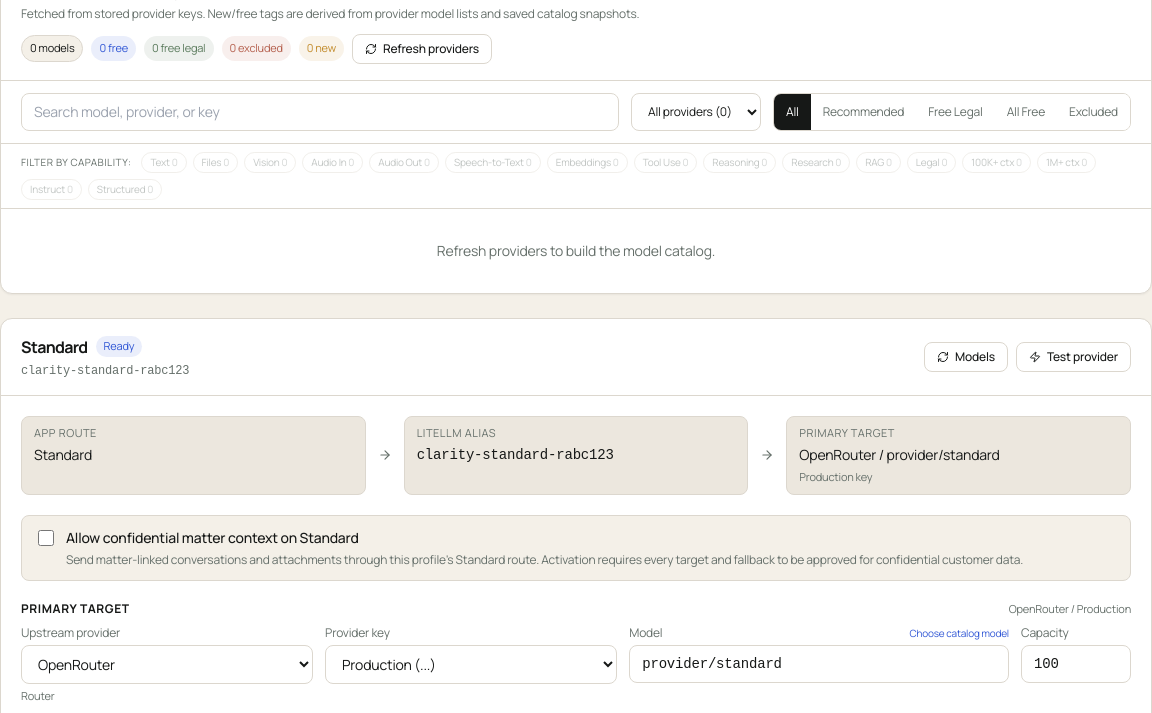
Scenario: platform AI routing › shows redacted provider credential evidence from a canary
(page scrolled)
Click the button "Test provider".
click(1073, 356)  # box [1016,342,1131,372]
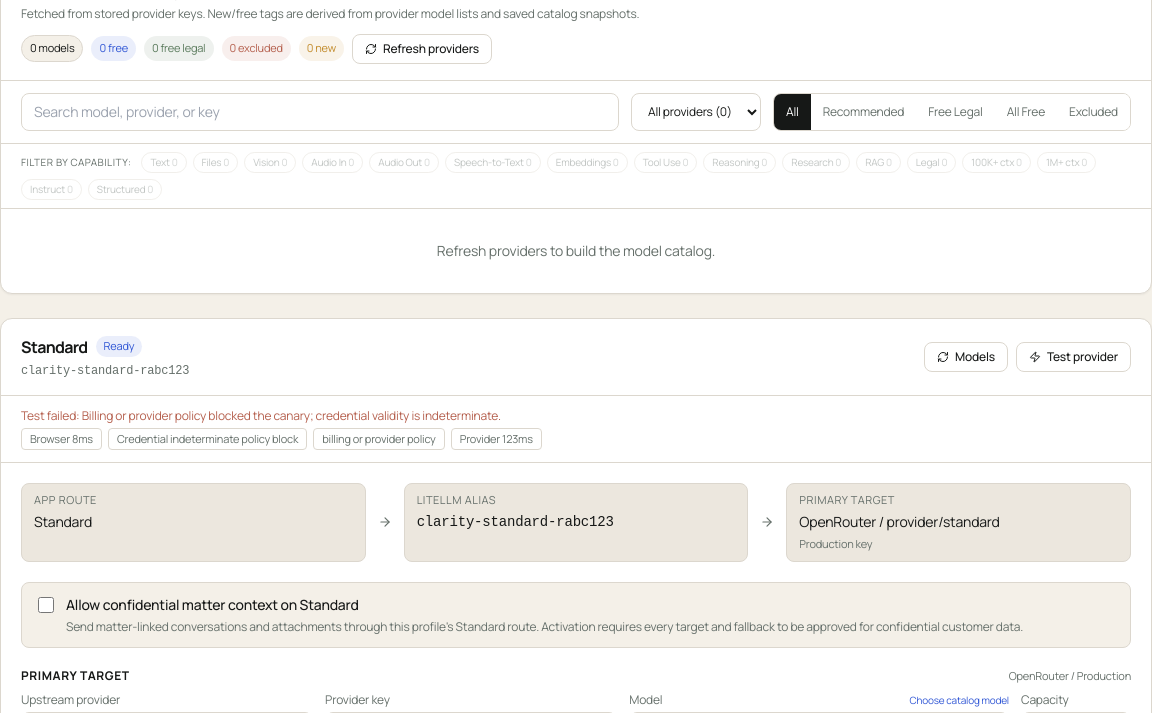
Check: the text "Test failed: Billing or provider policy blocked the canary; credential validity is indeterminate." is shown, box [21,406,501,424]
Check: the text "Credential indeterminate policy block" is shown, box [108,428,307,450]
Check: the text "billing or provider policy" is shown, box [313,428,445,450]
